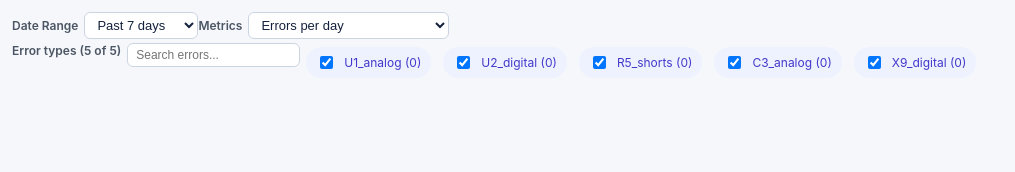
Test: ErrorSearchList (U5) › filters to matching errors only (case-insensitive substring)
The image size is (1015, 172).
Type "analog" into the field with placeholder "Search errors...". click: (214, 55)
box: [127,43,300,67]
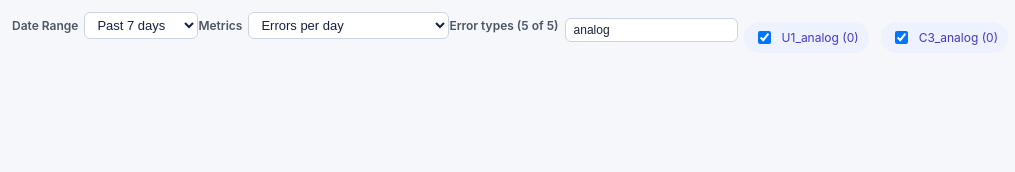
Check: the text "U2_digital" is gone
Check: the text "R5_shorts" is gone
Check: the text "X9_digital" is gone
